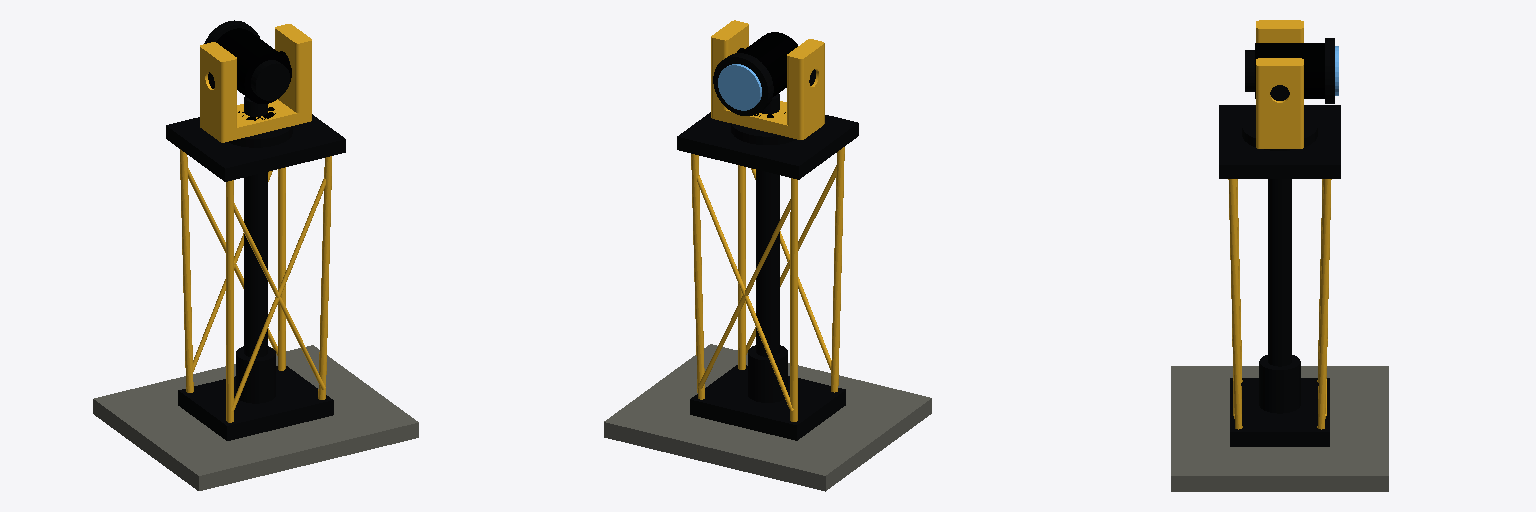
robot.urdf — pan_tilt_searchlight_tower:
<robot name="pan_tilt_searchlight_tower">
  <material name="weathered_concrete">
    <color rgba="0.42 0.42 0.39 1" />
    </material>
  <material name="painted_yellow">
    <color rgba="0.92 0.7 0.18 1" />
    </material>
  <material name="dark_steel">
    <color rgba="0.05 0.055 0.06 1" />
    </material>
  <material name="matte_black">
    <color rgba="0.01 0.012 0.014 1" />
    </material>
  <material name="pale_blue_glass">
    <color rgba="0.45 0.72 0.95 0.55" />
    </material>
  <material name="warm_reflector">
    <color rgba="1 0.92 0.62 1" />
    </material>
  <link name="support">
    <visual name="concrete_pad">
      <origin xyz="0 0 0.04" rpy="0 0 0" />
      <geometry>
        <box size="1.2 1 0.08" />
        </geometry>
      <material name="weathered_concrete">
        <color rgba="0.42 0.42 0.39 1" />
        </material>
      </visual>
    <visual name="base_plinth">
      <origin xyz="0 0 0.12" rpy="0 0 0" />
      <geometry>
        <box size="0.58 0.46 0.08" />
        </geometry>
      <material name="dark_steel">
        <color rgba="0.05 0.055 0.06 1" />
        </material>
      </visual>
    <visual name="central_mast">
      <origin xyz="0 0 0.81" rpy="0 0 0" />
      <geometry>
        <cylinder radius="0.055" length="1.3" />
        </geometry>
      <material name="dark_steel">
        <color rgba="0.05 0.055 0.06 1" />
        </material>
      </visual>
    <visual name="lower_sleeve">
      <origin xyz="0 0 0.27" rpy="0 0 0" />
      <geometry>
        <cylinder radius="0.095" length="0.22" />
        </geometry>
      <material name="dark_steel">
        <color rgba="0.05 0.055 0.06 1" />
        </material>
      </visual>
    <visual name="top_platform">
      <origin xyz="0 0 1.495" rpy="0 0 0" />
      <geometry>
        <box size="0.66 0.56 0.07" />
        </geometry>
      <material name="dark_steel">
        <color rgba="0.05 0.055 0.06 1" />
        </material>
      </visual>
    <visual name="fixed_bearing">
      <origin xyz="0 0 1.5525" rpy="0 0 0" />
      <geometry>
        <cylinder radius="0.175" length="0.045" />
        </geometry>
      <material name="dark_steel">
        <color rgba="0.05 0.055 0.06 1" />
        </material>
      </visual>
    <visual name="tower_leg_0">
      <origin xyz="0.26 0.205 0.81" rpy="0 0.0271028 0.982794" />
      <geometry>
        <cylinder radius="0.018" length="1.33049" />
        </geometry>
      <material name="painted_yellow">
        <color rgba="0.92 0.7 0.18 1" />
        </material>
      </visual>
    <visual name="tower_leg_1">
      <origin xyz="-0.26 0.205 0.81" rpy="0 0.0271028 2.1588" />
      <geometry>
        <cylinder radius="0.018" length="1.33049" />
        </geometry>
      <material name="painted_yellow">
        <color rgba="0.92 0.7 0.18 1" />
        </material>
      </visual>
    <visual name="tower_leg_2">
      <origin xyz="0.26 -0.205 0.81" rpy="0 0.0271028 -0.982794" />
      <geometry>
        <cylinder radius="0.018" length="1.33049" />
        </geometry>
      <material name="painted_yellow">
        <color rgba="0.92 0.7 0.18 1" />
        </material>
      </visual>
    <visual name="tower_leg_3">
      <origin xyz="-0.26 -0.205 0.81" rpy="0 0.0271028 -2.1588" />
      <geometry>
        <cylinder radius="0.018" length="1.33049" />
        </geometry>
      <material name="painted_yellow">
        <color rgba="0.92 0.7 0.18 1" />
        </material>
      </visual>
    <visual name="cross_brace_0">
      <origin xyz="0.01 0.21 0.78" rpy="0 0.434741 0.0192284" />
      <geometry>
        <cylinder radius="0.011" length="1.23487" />
        </geometry>
      <material name="painted_yellow">
        <color rgba="0.92 0.7 0.18 1" />
        </material>
      </visual>
    <visual name="cross_brace_1">
      <origin xyz="-0.01 0.21 0.78" rpy="0 0.434741 3.12236" />
      <geometry>
        <cylinder radius="0.011" length="1.23487" />
        </geometry>
      <material name="painted_yellow">
        <color rgba="0.92 0.7 0.18 1" />
        </material>
      </visual>
    <visual name="cross_brace_2">
      <origin xyz="0.01 -0.21 0.78" rpy="0 0.434741 -0.0192284" />
      <geometry>
        <cylinder radius="0.011" length="1.23487" />
        </geometry>
      <material name="painted_yellow">
        <color rgba="0.92 0.7 0.18 1" />
        </material>
      </visual>
    <visual name="cross_brace_3">
      <origin xyz="-0.01 -0.21 0.78" rpy="0 0.434741 -3.12236" />
      <geometry>
        <cylinder radius="0.011" length="1.23487" />
        </geometry>
      <material name="painted_yellow">
        <color rgba="0.92 0.7 0.18 1" />
        </material>
      </visual>
    <collision name="concrete_pad">
      <origin xyz="0 0 0.04" rpy="0 0 0" />
      <geometry>
        <box size="1.2 1 0.08" />
        </geometry>
      </collision>
    <collision name="base_plinth">
      <origin xyz="0 0 0.12" rpy="0 0 0" />
      <geometry>
        <box size="0.58 0.46 0.08" />
        </geometry>
      </collision>
    <collision name="central_mast">
      <origin xyz="0 0 0.81" rpy="0 0 0" />
      <geometry>
        <cylinder radius="0.055" length="1.3" />
        </geometry>
      </collision>
    <collision name="lower_sleeve">
      <origin xyz="0 0 0.27" rpy="0 0 0" />
      <geometry>
        <cylinder radius="0.095" length="0.22" />
        </geometry>
      </collision>
    <collision name="top_platform">
      <origin xyz="0 0 1.495" rpy="0 0 0" />
      <geometry>
        <box size="0.66 0.56 0.07" />
        </geometry>
      </collision>
    <collision name="fixed_bearing">
      <origin xyz="0 0 1.5525" rpy="0 0 0" />
      <geometry>
        <cylinder radius="0.175" length="0.045" />
        </geometry>
      </collision>
    <collision name="tower_leg_0">
      <origin xyz="0.26 0.205 0.81" rpy="0 0.0271028 0.982794" />
      <geometry>
        <cylinder radius="0.018" length="1.33049" />
        </geometry>
      </collision>
    <collision name="tower_leg_1">
      <origin xyz="-0.26 0.205 0.81" rpy="0 0.0271028 2.1588" />
      <geometry>
        <cylinder radius="0.018" length="1.33049" />
        </geometry>
      </collision>
    <collision name="tower_leg_2">
      <origin xyz="0.26 -0.205 0.81" rpy="0 0.0271028 -0.982794" />
      <geometry>
        <cylinder radius="0.018" length="1.33049" />
        </geometry>
      </collision>
    <collision name="tower_leg_3">
      <origin xyz="-0.26 -0.205 0.81" rpy="0 0.0271028 -2.1588" />
      <geometry>
        <cylinder radius="0.018" length="1.33049" />
        </geometry>
      </collision>
    <collision name="cross_brace_0">
      <origin xyz="0.01 0.21 0.78" rpy="0 0.434741 0.0192284" />
      <geometry>
        <cylinder radius="0.011" length="1.23487" />
        </geometry>
      </collision>
    <collision name="cross_brace_1">
      <origin xyz="-0.01 0.21 0.78" rpy="0 0.434741 3.12236" />
      <geometry>
        <cylinder radius="0.011" length="1.23487" />
        </geometry>
      </collision>
    <collision name="cross_brace_2">
      <origin xyz="0.01 -0.21 0.78" rpy="0 0.434741 -0.0192284" />
      <geometry>
        <cylinder radius="0.011" length="1.23487" />
        </geometry>
      </collision>
    <collision name="cross_brace_3">
      <origin xyz="-0.01 -0.21 0.78" rpy="0 0.434741 -3.12236" />
      <geometry>
        <cylinder radius="0.011" length="1.23487" />
        </geometry>
      </collision>
    </link>
  <link name="yoke">
    <visual name="yoke_frame">
      <geometry>
        <mesh filename="assets/meshes/trunnion_yoke.obj" />
        </geometry>
      <material name="painted_yellow">
        <color rgba="0.92 0.7 0.18 1" />
        </material>
      </visual>
    <visual name="turntable_collar">
      <origin xyz="0 0 0.03" rpy="0 0 0" />
      <geometry>
        <cylinder radius="0.095" length="0.06" />
        </geometry>
      <material name="matte_black">
        <color rgba="0.01 0.012 0.014 1" />
        </material>
      </visual>
    <visual name="pan_post">
      <origin xyz="0 0 0.0975" rpy="0 0 0" />
      <geometry>
        <cylinder radius="0.055" length="0.075" />
        </geometry>
      <material name="dark_steel">
        <color rgba="0.05 0.055 0.06 1" />
        </material>
      </visual>
    <collision name="yoke_frame">
      <geometry>
        <mesh filename="assets/meshes/trunnion_yoke.obj" />
        </geometry>
      </collision>
    <collision name="turntable_collar">
      <origin xyz="0 0 0.03" rpy="0 0 0" />
      <geometry>
        <cylinder radius="0.095" length="0.06" />
        </geometry>
      </collision>
    <collision name="pan_post">
      <origin xyz="0 0 0.0975" rpy="0 0 0" />
      <geometry>
        <cylinder radius="0.055" length="0.075" />
        </geometry>
      </collision>
    </link>
  <link name="lamp">
    <visual name="lamp_barrel">
      <origin xyz="0 0.045 0" rpy="-1.5708 0 0" />
      <geometry>
        <cylinder radius="0.13" length="0.32" />
        </geometry>
      <material name="matte_black">
        <color rgba="0.01 0.012 0.014 1" />
        </material>
      </visual>
    <visual name="front_bezel">
      <origin xyz="0 0.23 0" rpy="-1.5708 0 0" />
      <geometry>
        <cylinder radius="0.15" length="0.05" />
        </geometry>
      <material name="dark_steel">
        <color rgba="0.05 0.055 0.06 1" />
        </material>
      </visual>
    <visual name="front_lens">
      <origin xyz="0 0.263 0" rpy="-1.5708 0 0" />
      <geometry>
        <cylinder radius="0.115" length="0.016" />
        </geometry>
      <material name="pale_blue_glass">
        <color rgba="0.45 0.72 0.95 0.55" />
        </material>
      </visual>
    <visual name="rear_cap">
      <origin xyz="0 -0.1375 0" rpy="-1.5708 0 0" />
      <geometry>
        <cylinder radius="0.095" length="0.045" />
        </geometry>
      <material name="dark_steel">
        <color rgba="0.05 0.055 0.06 1" />
        </material>
      </visual>
    <visual name="inner_reflector">
      <origin xyz="0 0.254 0" rpy="-1.5708 0 0" />
      <geometry>
        <cylinder radius="0.075" length="0.01" />
        </geometry>
      <material name="warm_reflector">
        <color rgba="1 0.92 0.62 1" />
        </material>
      </visual>
    <visual name="tilt_trunnion">
      <origin xyz="0 0 0" rpy="0 1.5708 0" />
      <geometry>
        <cylinder radius="0.0455" length="0.47" />
        </geometry>
      <material name="dark_steel">
        <color rgba="0.05 0.055 0.06 1" />
        </material>
      </visual>
    <visual name="trunnion_boss_0">
      <origin xyz="-0.145 0 0" rpy="0 1.5708 0" />
      <geometry>
        <cylinder radius="0.057" length="0.016" />
        </geometry>
      <material name="matte_black">
        <color rgba="0.01 0.012 0.014 1" />
        </material>
      </visual>
    <visual name="trunnion_boss_1">
      <origin xyz="0.145 0 0" rpy="0 1.5708 0" />
      <geometry>
        <cylinder radius="0.057" length="0.016" />
        </geometry>
      <material name="matte_black">
        <color rgba="0.01 0.012 0.014 1" />
        </material>
      </visual>
    <collision name="lamp_barrel">
      <origin xyz="0 0.045 0" rpy="-1.5708 0 0" />
      <geometry>
        <cylinder radius="0.13" length="0.32" />
        </geometry>
      </collision>
    <collision name="front_bezel">
      <origin xyz="0 0.23 0" rpy="-1.5708 0 0" />
      <geometry>
        <cylinder radius="0.15" length="0.05" />
        </geometry>
      </collision>
    <collision name="front_lens">
      <origin xyz="0 0.263 0" rpy="-1.5708 0 0" />
      <geometry>
        <cylinder radius="0.115" length="0.016" />
        </geometry>
      </collision>
    <collision name="rear_cap">
      <origin xyz="0 -0.1375 0" rpy="-1.5708 0 0" />
      <geometry>
        <cylinder radius="0.095" length="0.045" />
        </geometry>
      </collision>
    <collision name="inner_reflector">
      <origin xyz="0 0.254 0" rpy="-1.5708 0 0" />
      <geometry>
        <cylinder radius="0.075" length="0.01" />
        </geometry>
      </collision>
    <collision name="tilt_trunnion">
      <origin xyz="0 0 0" rpy="0 1.5708 0" />
      <geometry>
        <cylinder radius="0.0455" length="0.47" />
        </geometry>
      </collision>
    <collision name="trunnion_boss_0">
      <origin xyz="-0.145 0 0" rpy="0 1.5708 0" />
      <geometry>
        <cylinder radius="0.057" length="0.016" />
        </geometry>
      </collision>
    <collision name="trunnion_boss_1">
      <origin xyz="0.145 0 0" rpy="0 1.5708 0" />
      <geometry>
        <cylinder radius="0.057" length="0.016" />
        </geometry>
      </collision>
    </link>
  <joint name="pan" type="revolute">
    <origin xyz="0 0 1.575" rpy="0 0 0" />
    <parent link="support" />
    <child link="yoke" />
    <axis xyz="0 0 1" />
    <limit effort="40" velocity="1" lower="-3.14159" upper="3.14159" />
    </joint>
  <joint name="tilt" type="revolute">
    <origin xyz="0 0 0.28" rpy="0 0 0" />
    <parent link="yoke" />
    <child link="lamp" />
    <axis xyz="1 0 0" />
    <limit effort="18" velocity="0.8" lower="-0.45" upper="0.95" />
    </joint>
  </robot>

--- Facts derived from the render (not from the file) ---
Views: 3 orthographic renders of the robot side by side, from view 1: azimuth 30°, elevation 25°; view 2: azimuth 150°, elevation 25°; view 3: azimuth 270°, elevation 25°.
Model pan_tilt_searchlight_tower with 3 links and 2 joints (2 revolute), rooted at support, posed all joints at 0.
Links seen in each view (by area): view 1: support, yoke, lamp; view 2: support, yoke, lamp; view 3: support, yoke, lamp.
Boxes of the visible links, left/top/right/bottom form: support: left=93, top=114, right=418, bottom=490; yoke: left=200, top=24, right=311, bottom=142; lamp: left=204, top=20, right=291, bottom=103; support: left=604, top=112, right=931, bottom=491; yoke: left=711, top=20, right=824, bottom=139; lamp: left=713, top=32, right=815, bottom=115; support: left=1171, top=105, right=1388, bottom=491; yoke: left=1256, top=20, right=1303, bottom=148; lamp: left=1245, top=38, right=1338, bottom=103.
Bounding box of the posed robot: 1.2 × 1 × 2 m (x, y, z).
Meshes: 1 distinct files referenced, 1 mesh visuals loaded (1 OBJ).
